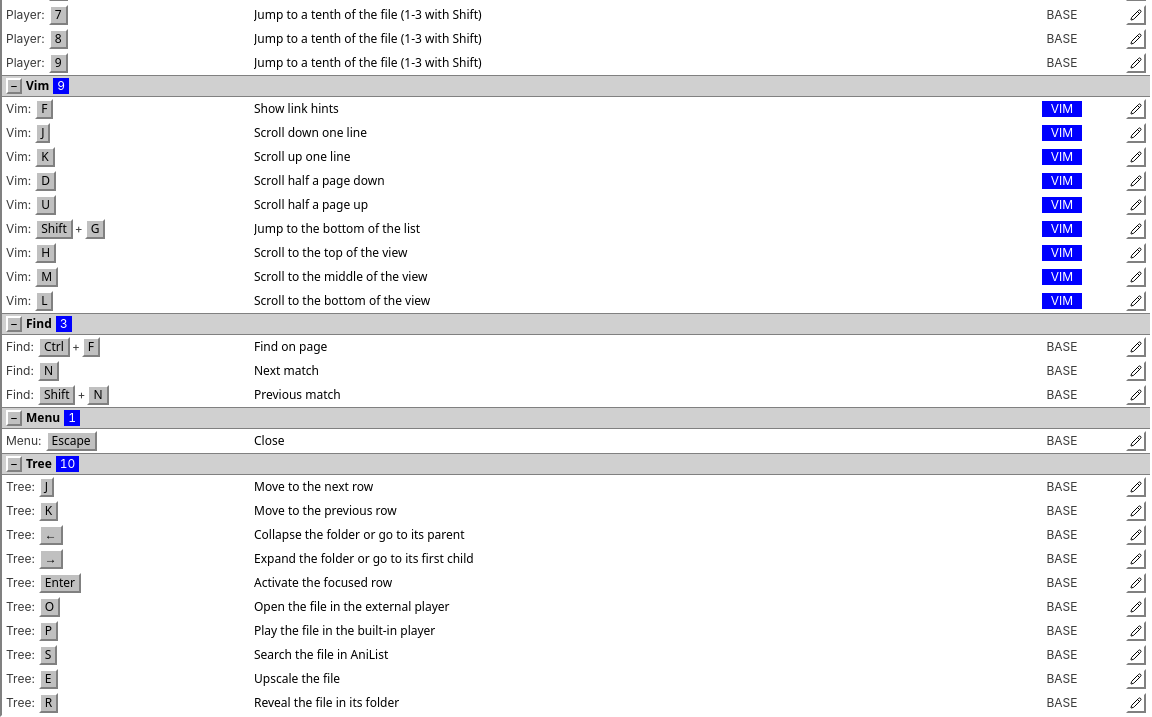
Test: SettingsKeybinds editor › blocks reserved sequence prefixes with a note
(page scrolled)
Click the button named "edit tree.move.down": (1136, 487) x1=1126 y1=477 x2=1146 y2=497
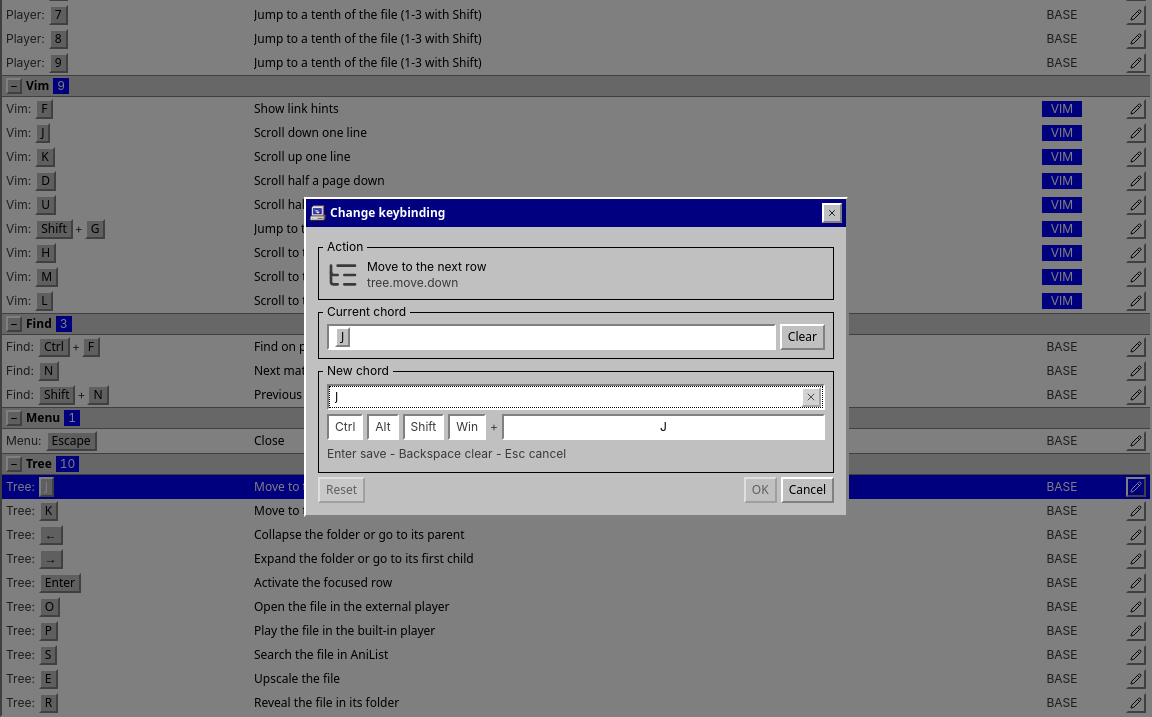
Press g in the field named "Press a chord...", box x1=327 y1=384 x2=825 y2=410
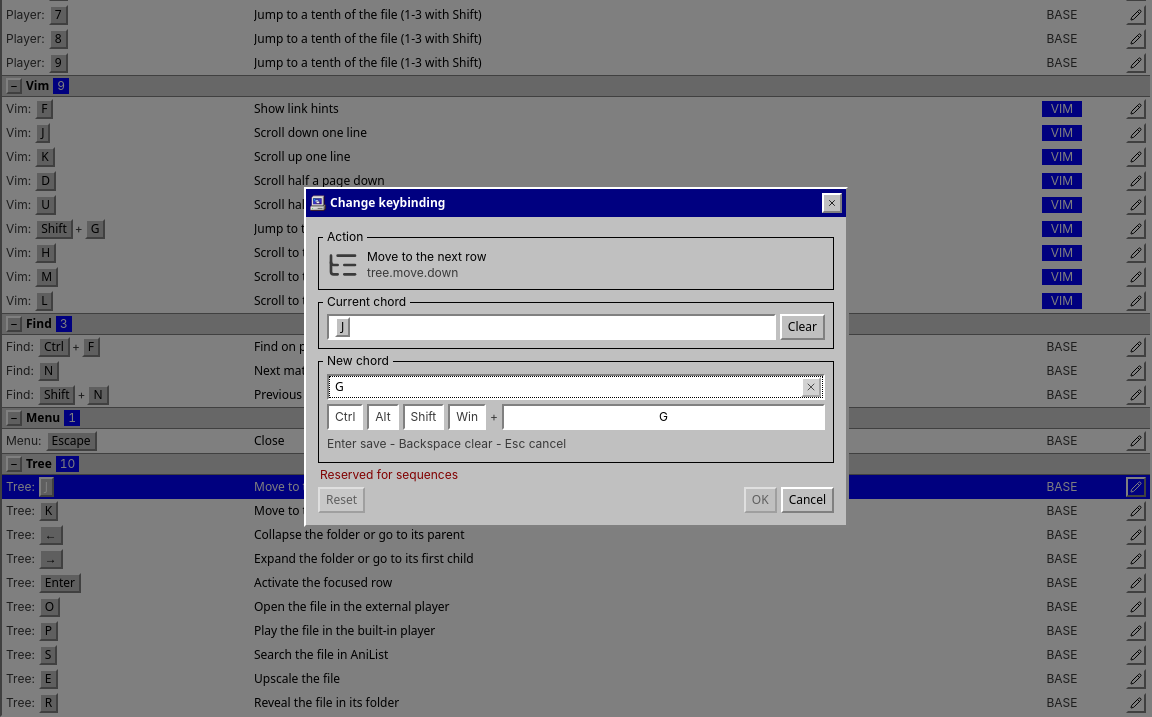
Expected: the button "OK" is disabled, x1=744 y1=487 x2=777 y2=513
Expected: the text "Reserved for sequences" is shown, x1=320 y1=467 x2=458 y2=482
